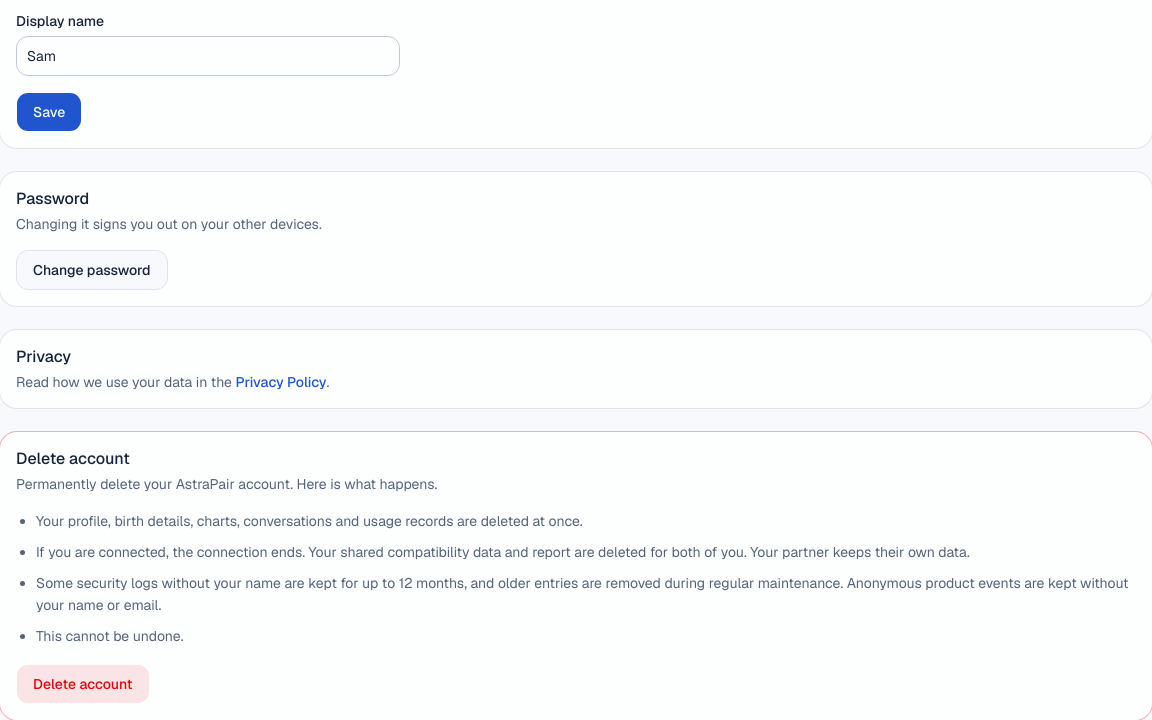
Test: Settings page delete account mode › asks for the password when the account has one
This screenshot has width=1152, height=720.
(page scrolled)
Click the button "Delete account" at (83, 684), box [16,664,150,704]
(page scrolled)
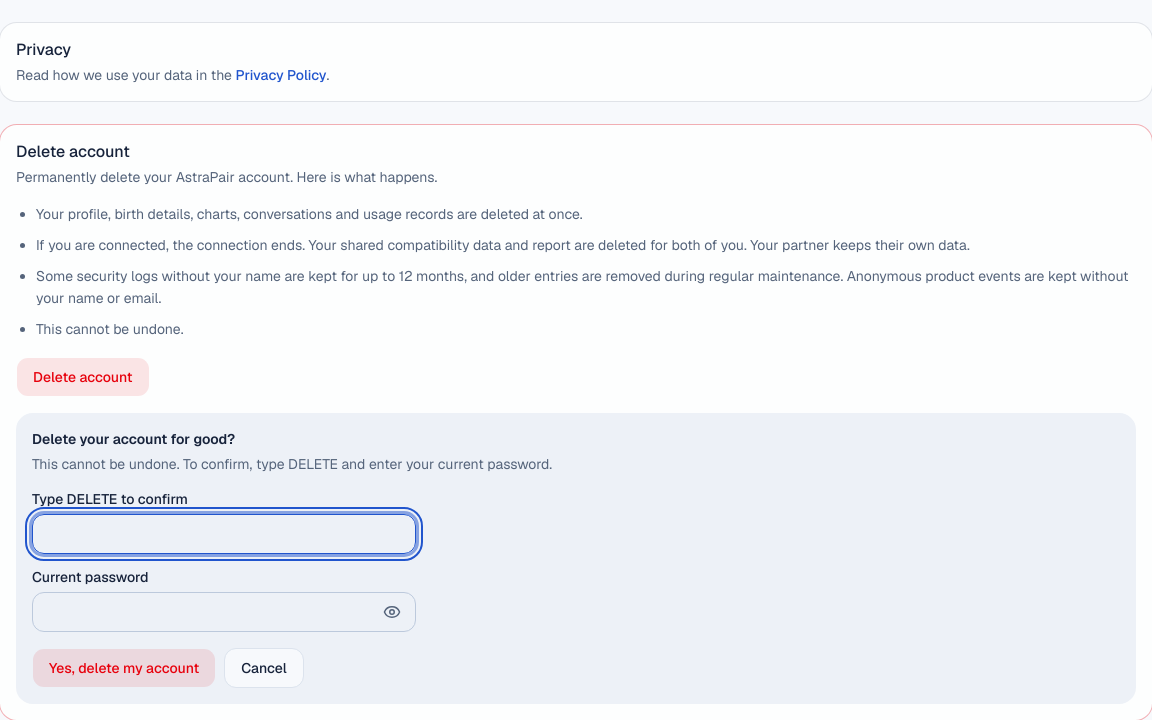
Expected: the password field labelled "Current password" is shown, [32,592,416,632]
